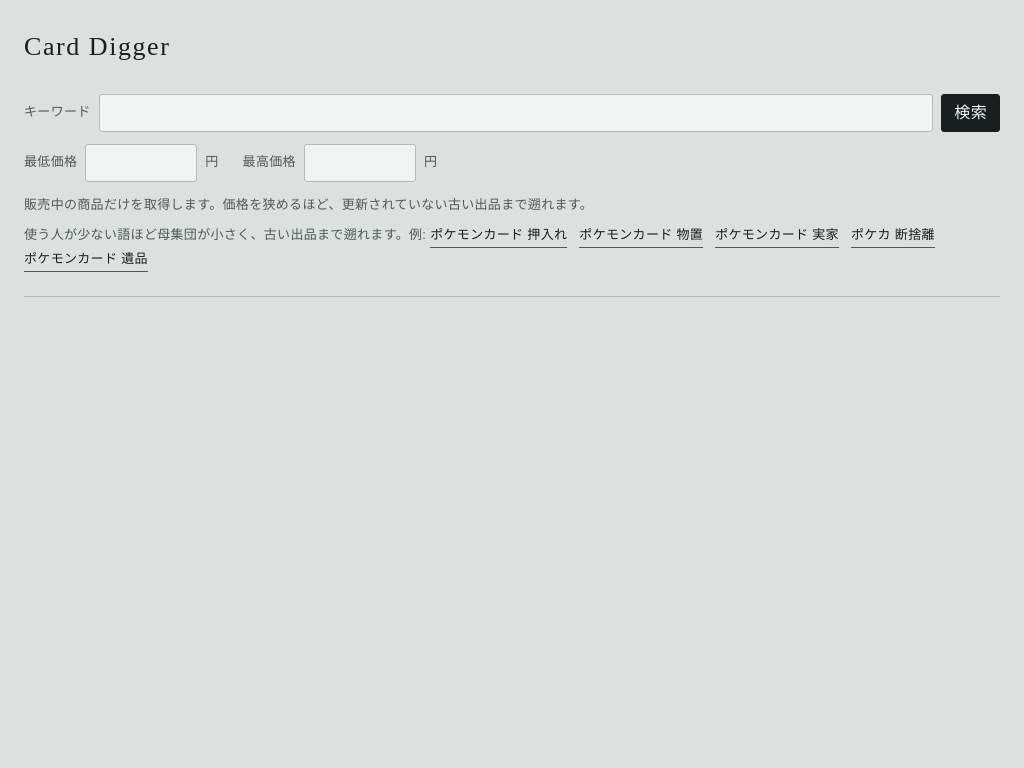
Test case: input errors › sends the keyword trimmed
The width and height of the screenshot is (1024, 768).
Type "  ポケカ 引退  " into the field labelled "キーワード" at (516, 112), box [99,94,933,132]
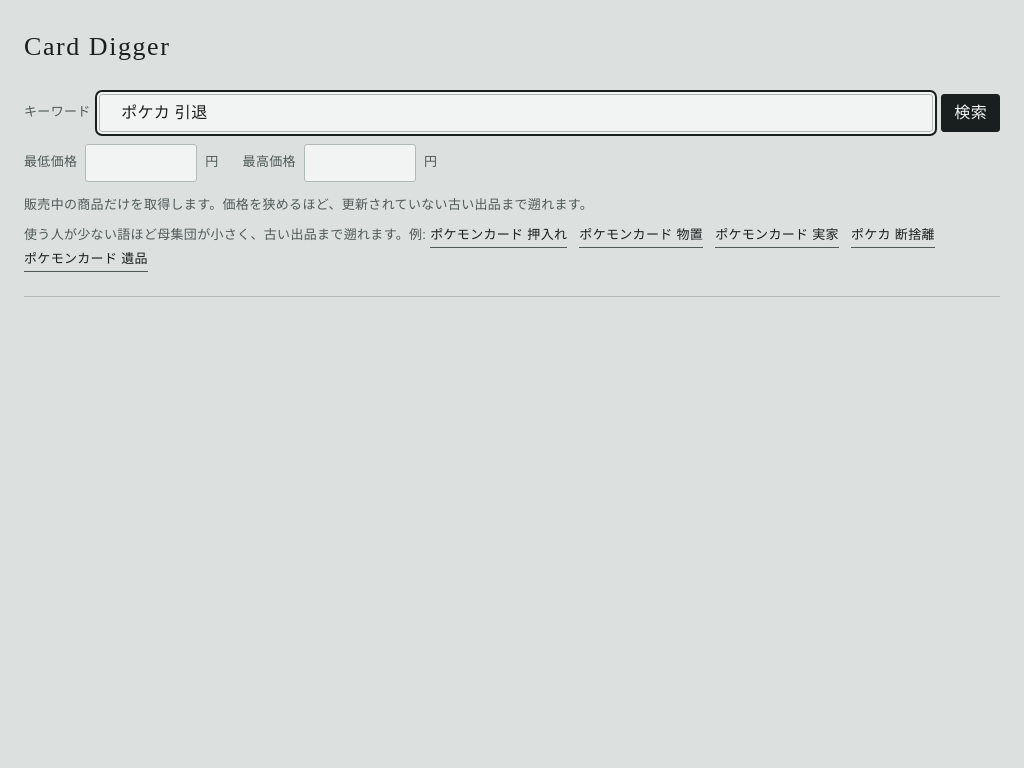
Click the button "検索" at (971, 112), box [941,94,1000,132]
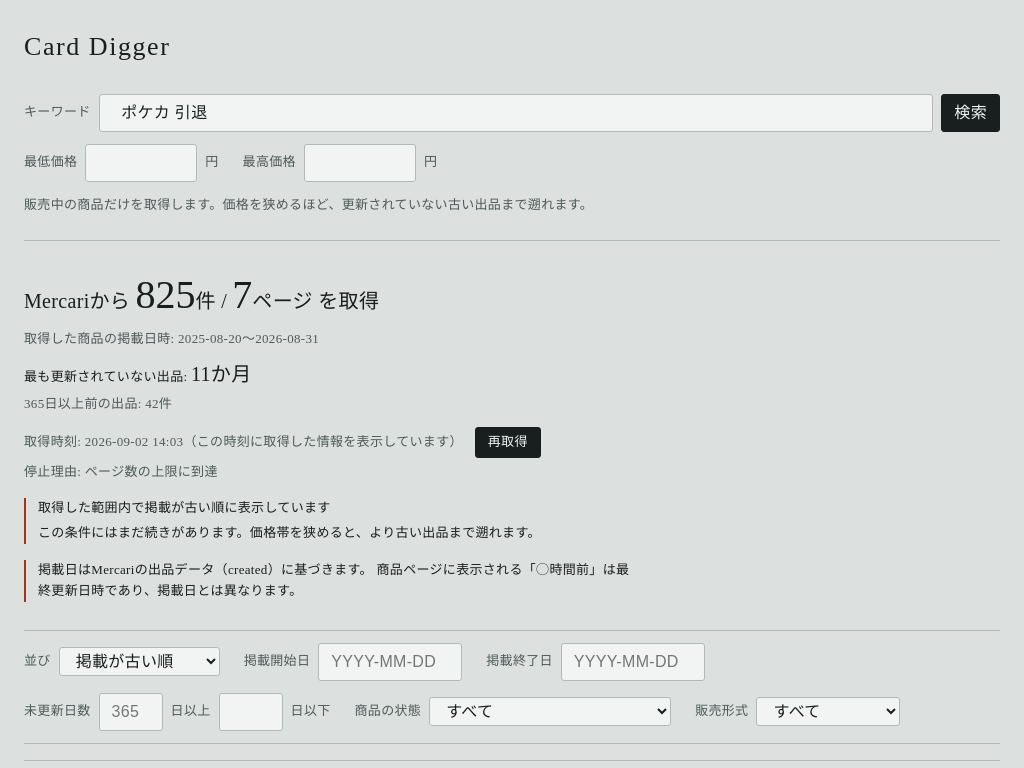
expect the element named "取得範囲" is shown: met, box [24,241,632,630]
